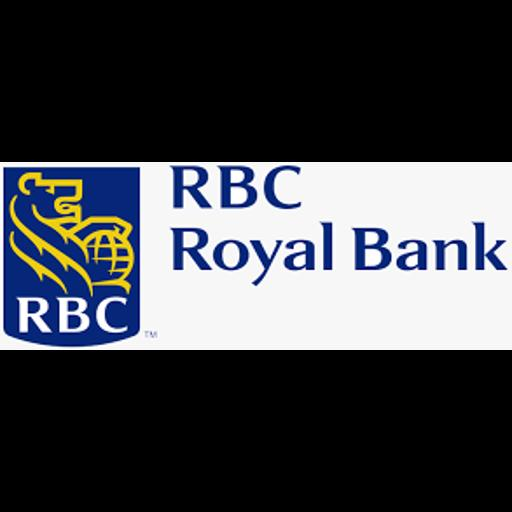RBC Royal Bank: (0, 162, 512, 350)
